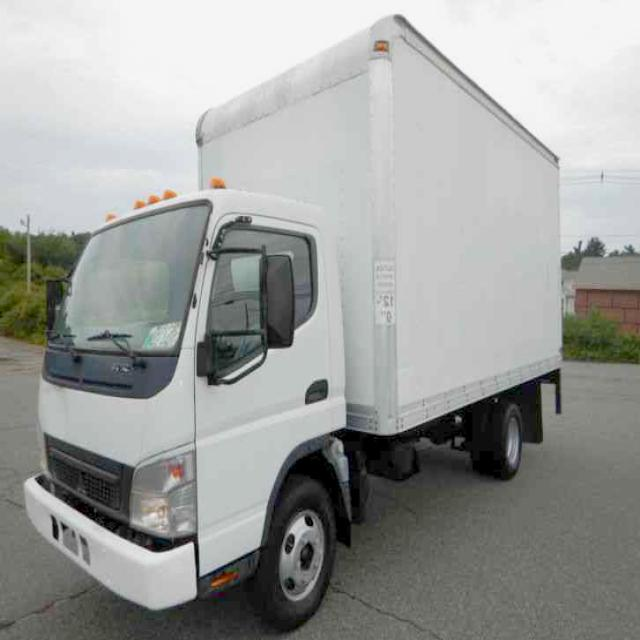truck: (22, 15, 564, 620)
